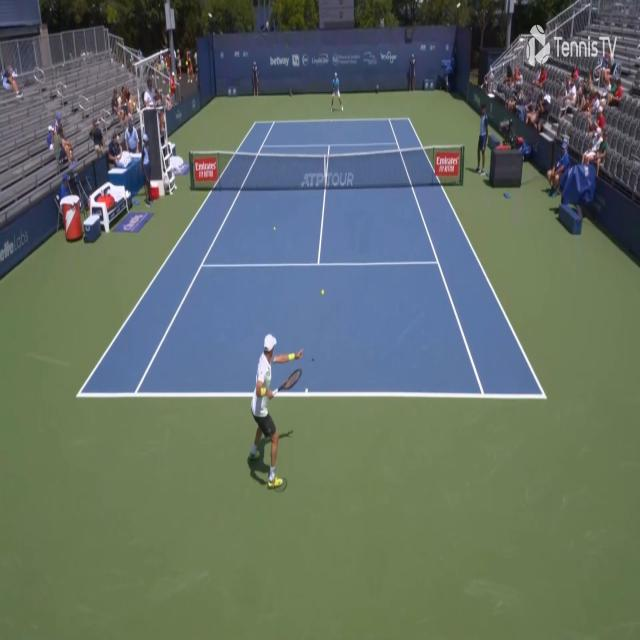tennis-player: (246, 328, 305, 493), (329, 69, 344, 114)
